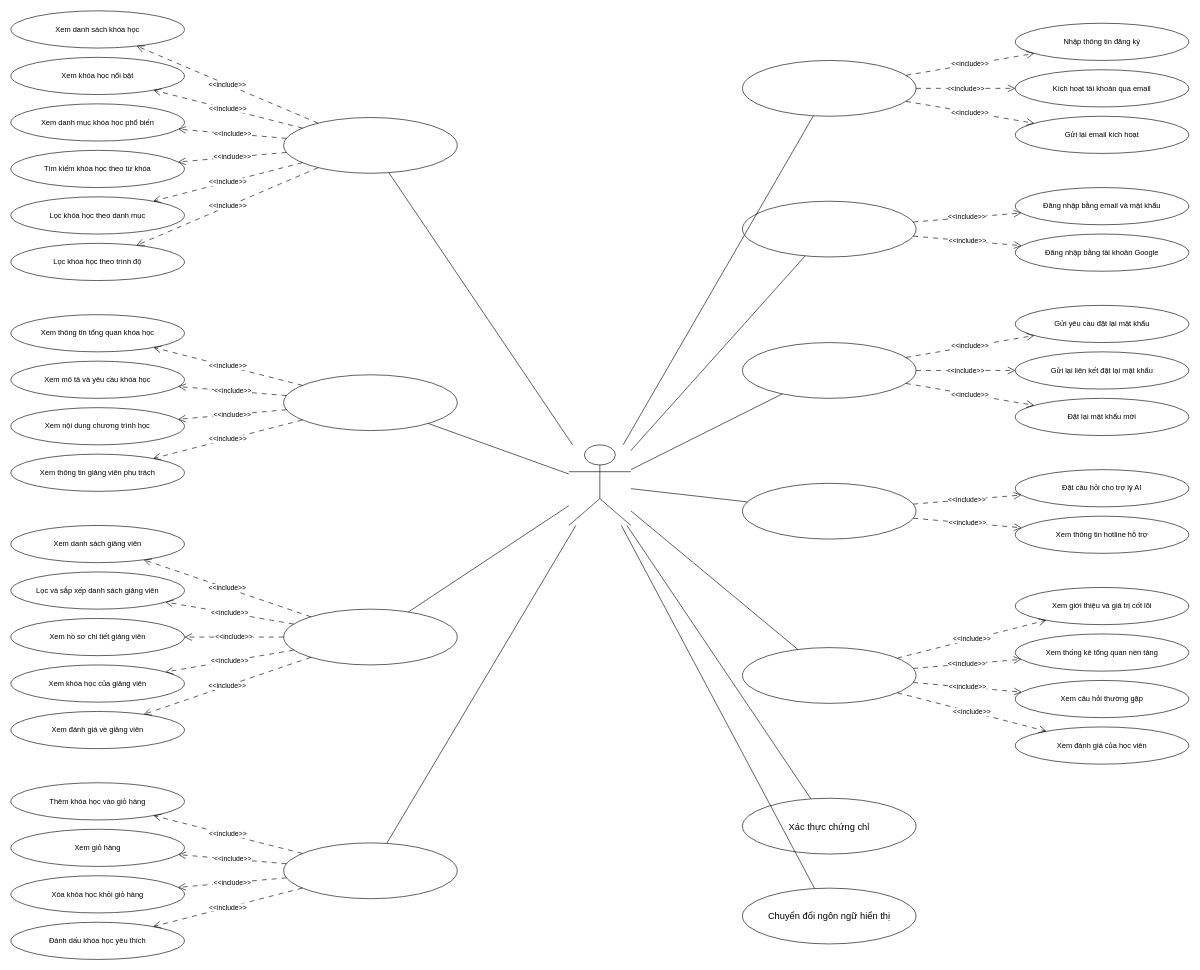
Image size: 1200x970. Some labels were removed from this diagram. Each missing label, with the box of its shape:
Guest: (568, 444, 631, 525)
Khám phá khóa học: (283, 117, 457, 173)
Khôi phục mật khẩu: (742, 342, 916, 398)
Lưu khóa học quan tâm: (283, 842, 457, 899)
Nhận hỗ trợ: (742, 483, 916, 539)
Xem thông tin giảng viên: (283, 609, 457, 665)
Xem thông tin giới thiệu: (742, 647, 916, 703)
Xem thông tin khóa học: (283, 374, 457, 431)
Đăng ký tài khoản: (742, 60, 916, 116)
Đăng nhập: (742, 201, 916, 257)
